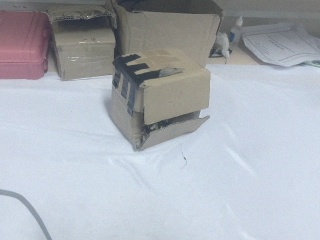box: (108, 49, 211, 149), (113, 1, 223, 67), (50, 3, 117, 79), (1, 1, 52, 86)
